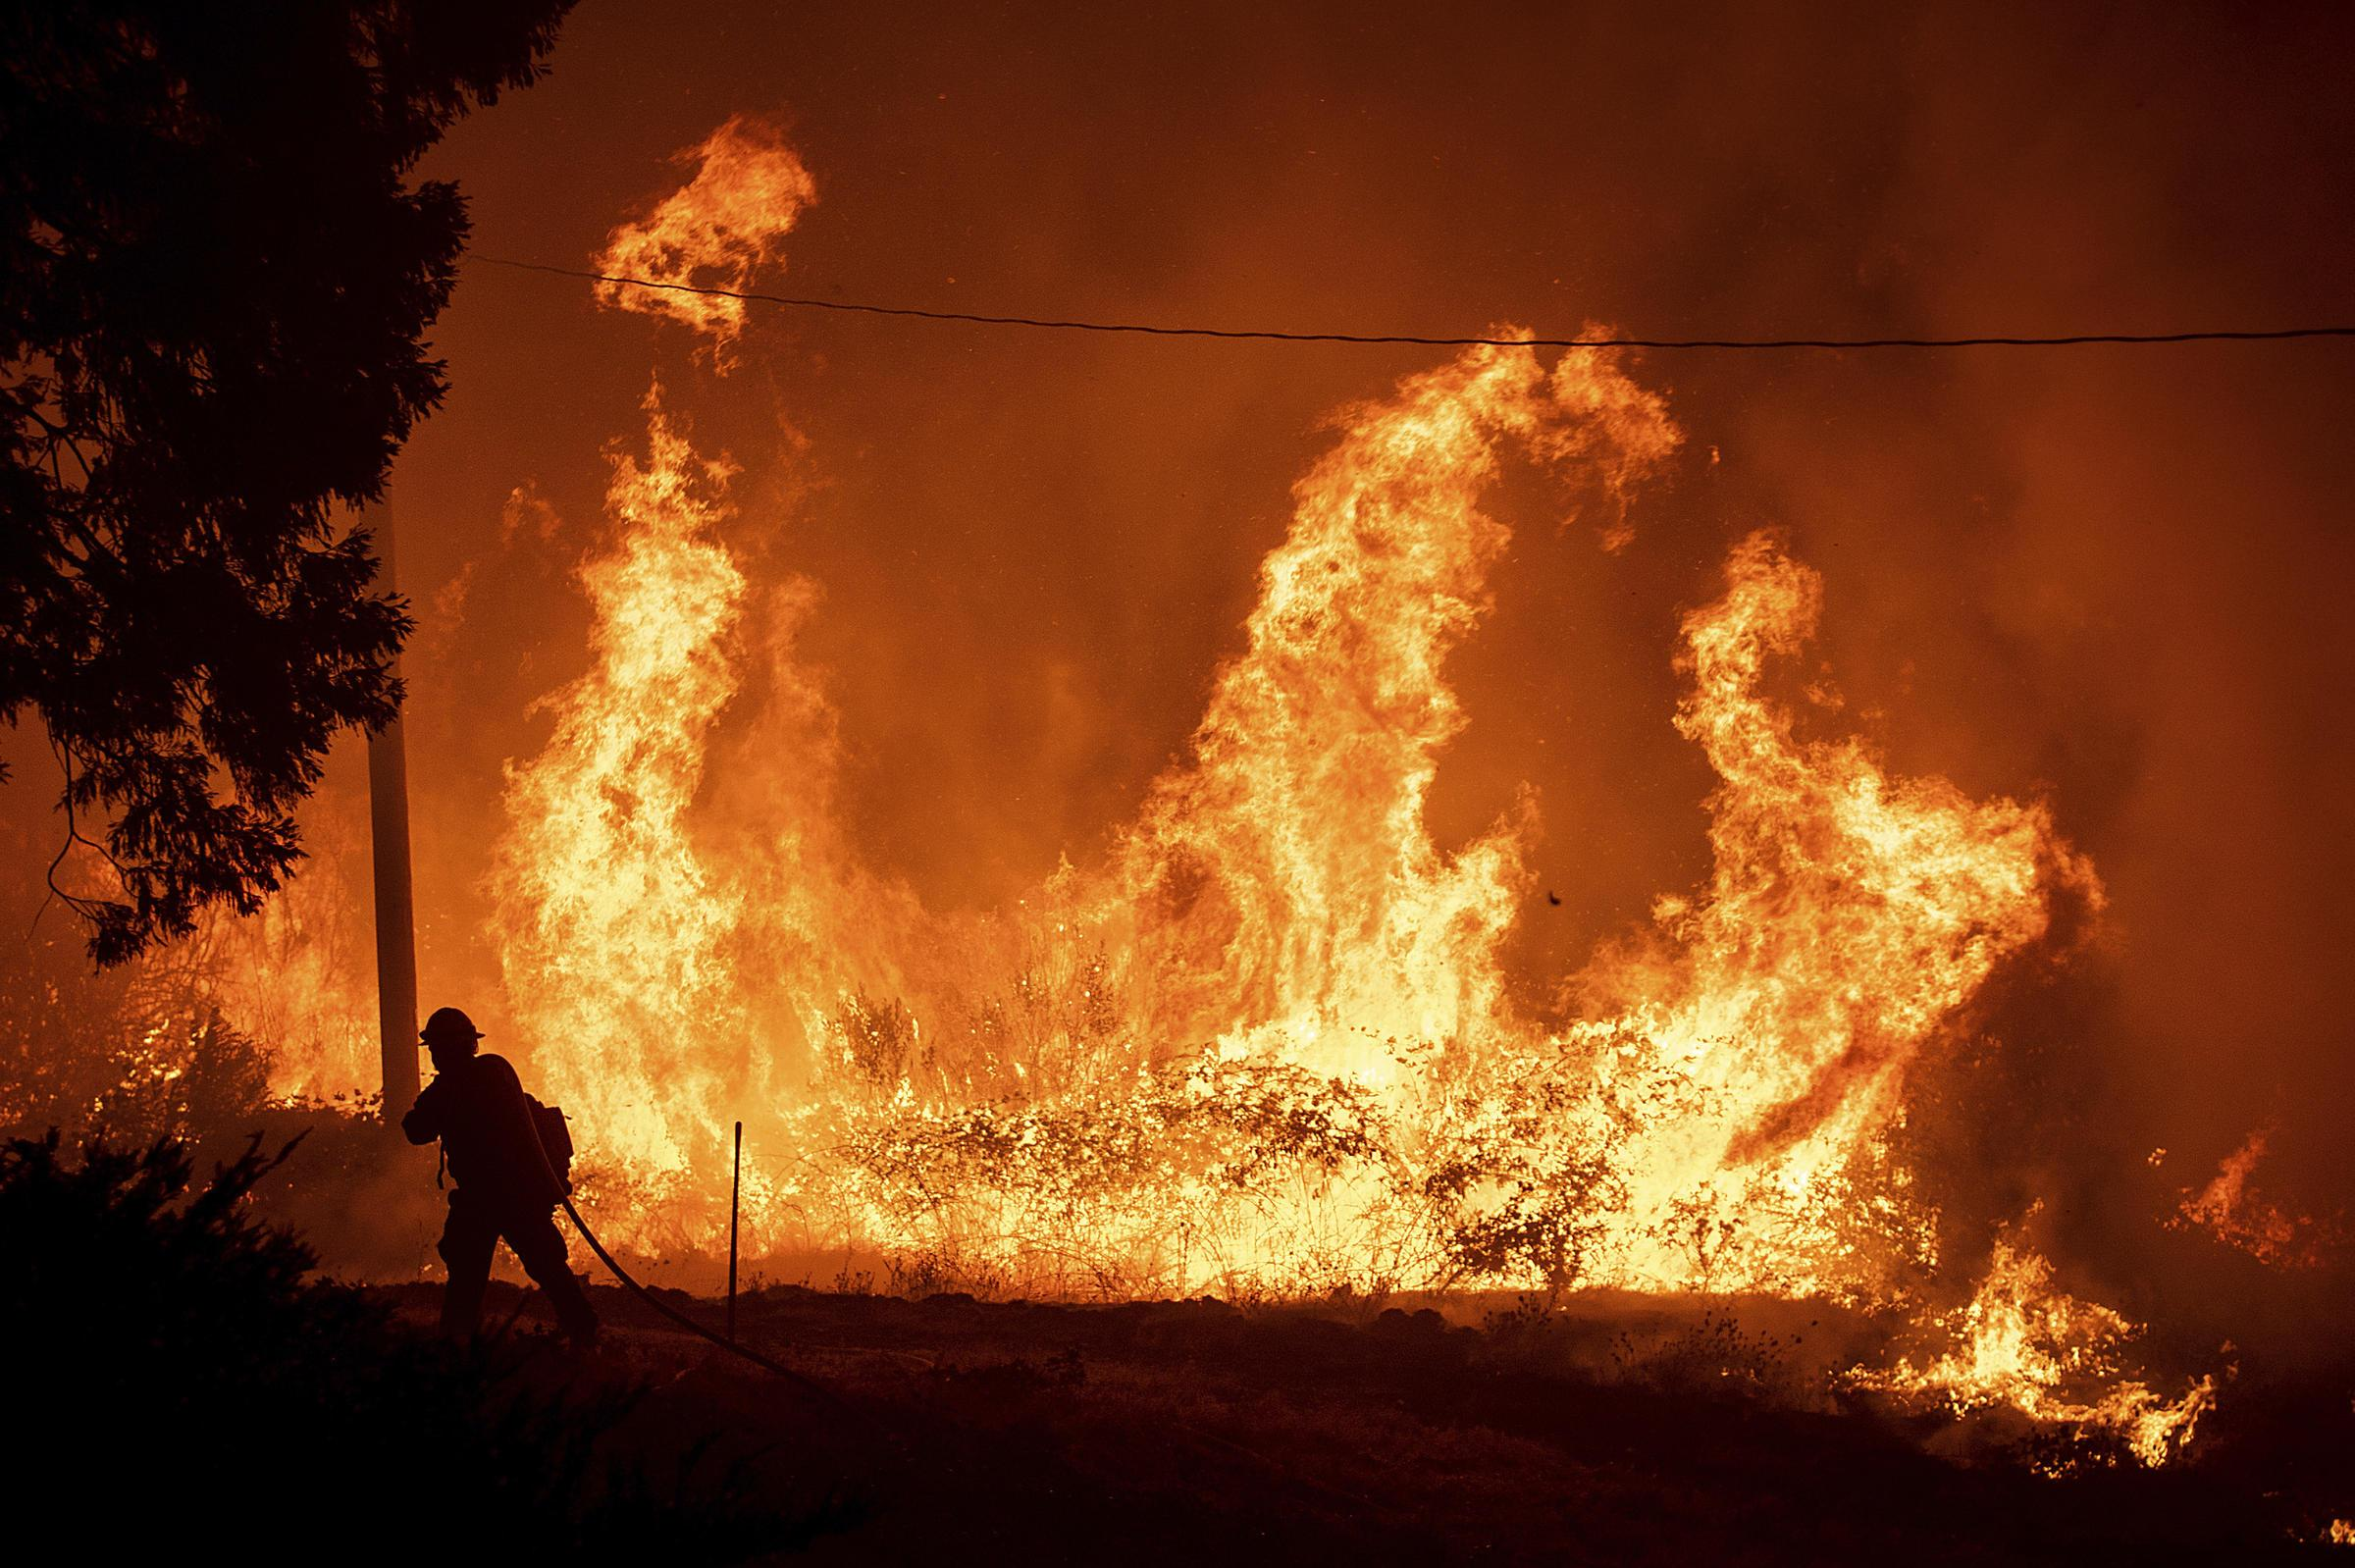Fire: (184, 98, 2282, 1442)
